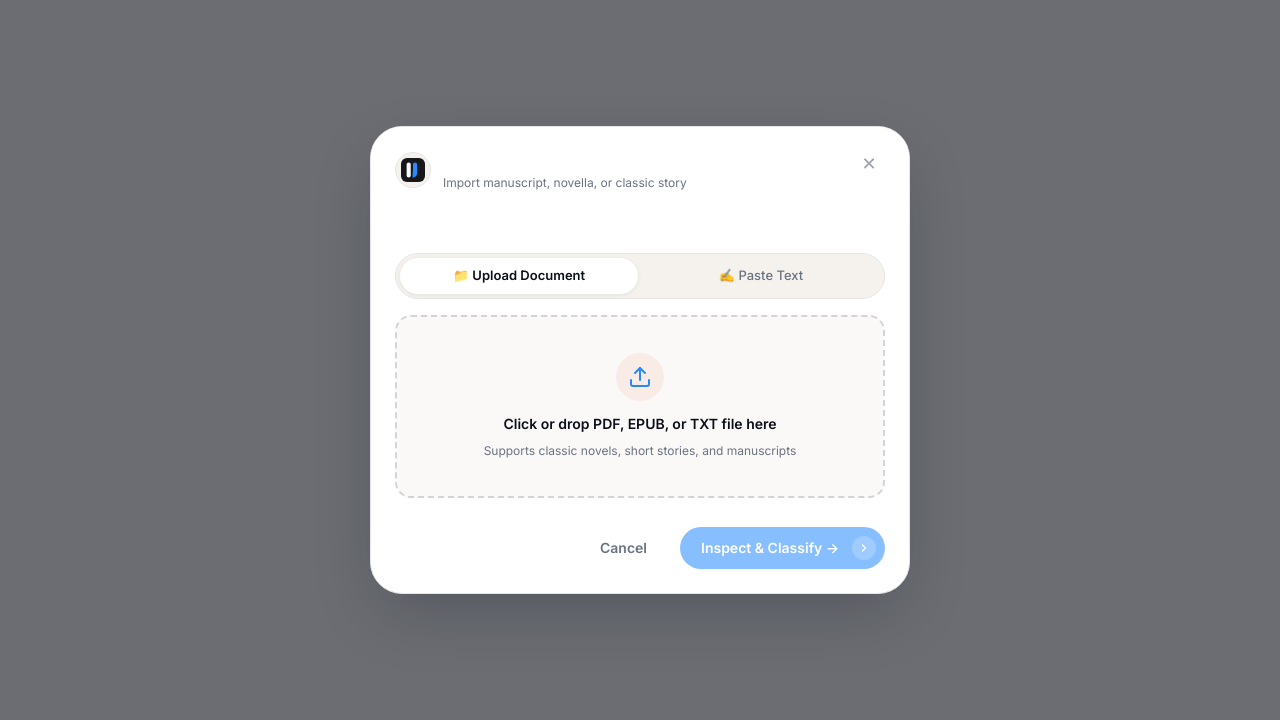
Test: Catalog & Library Suite (Phase 5) › AddBookModal Component › renders modal dialog when isOpen is true and toggles tabs
Expected: the button "📁 Upload Document" is shown, [400,258,638,294]
// Switch to Paste tab
Click the button "✍️ Paste Text": (761, 276) [642,258,880,294]
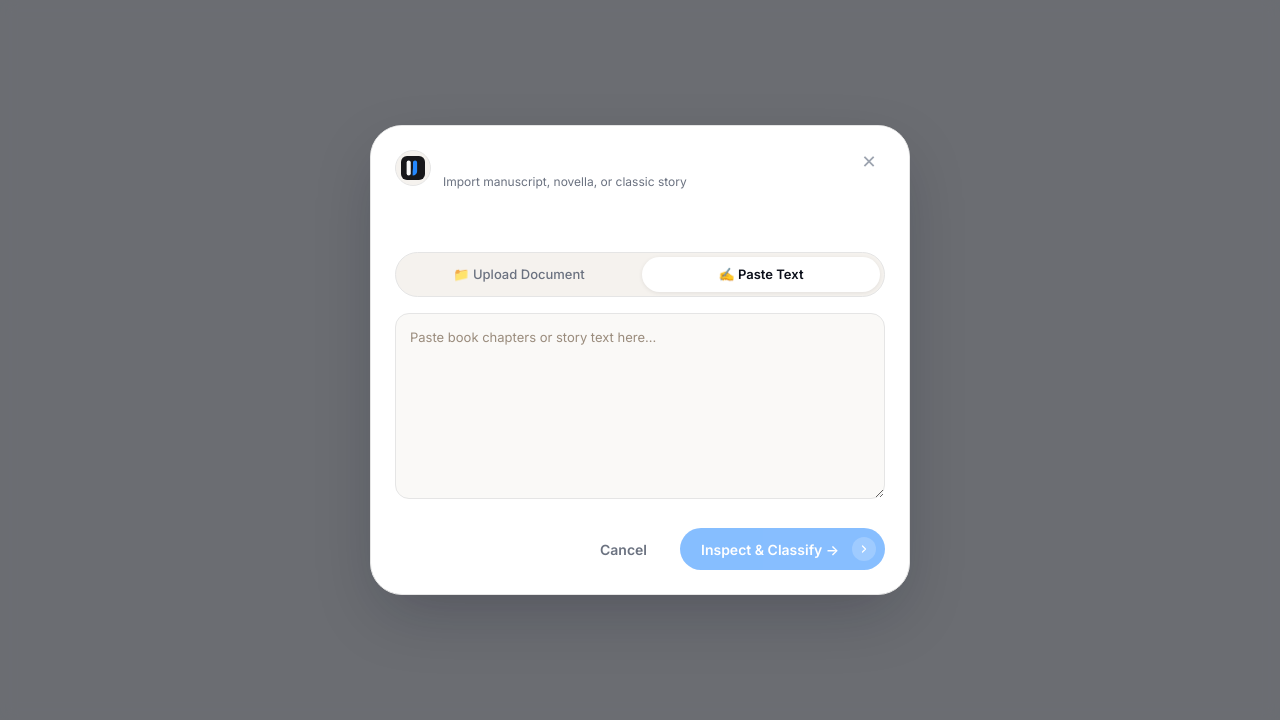
Expected: the text box with placeholder "Paste book chapters or story text here..." is shown, [395,313,885,499]
// Switch back to Upload tab
Click the button "📁 Upload Document": (519, 275) [400,257,638,292]
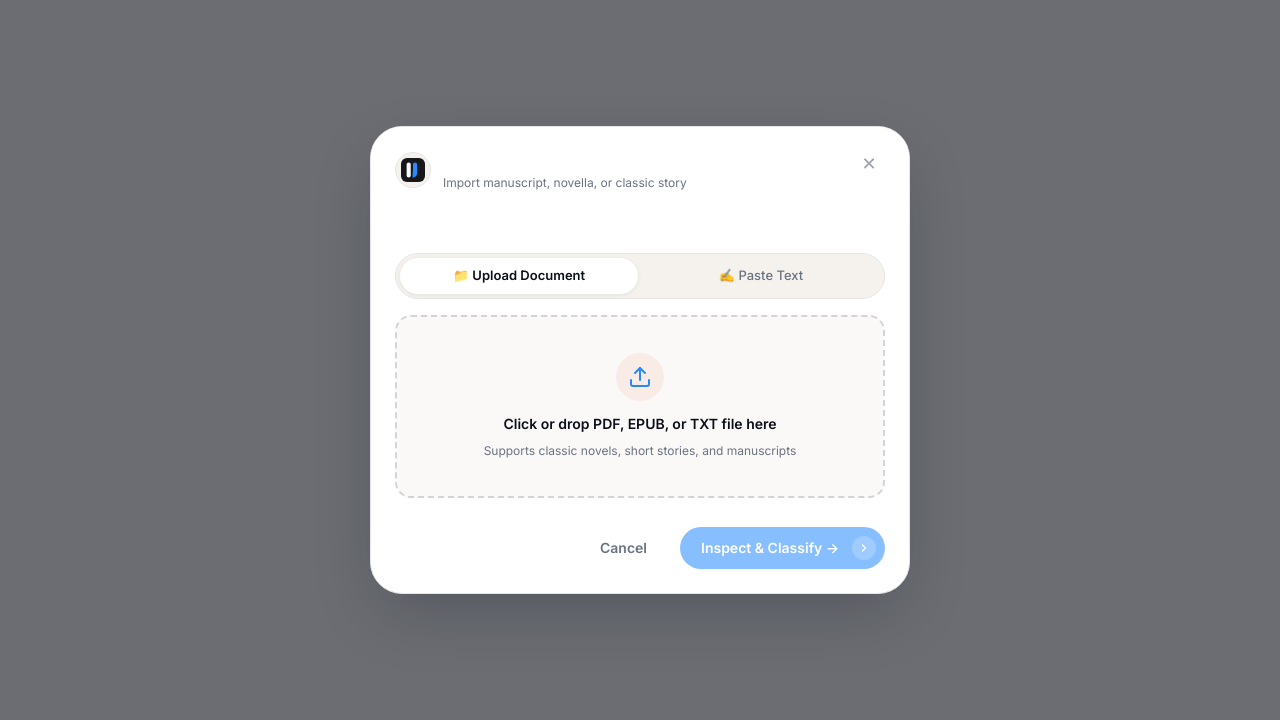
Expected: the text "Click or drop PDF, EPUB, or TXT file here" is shown, [503,413,776,434]
